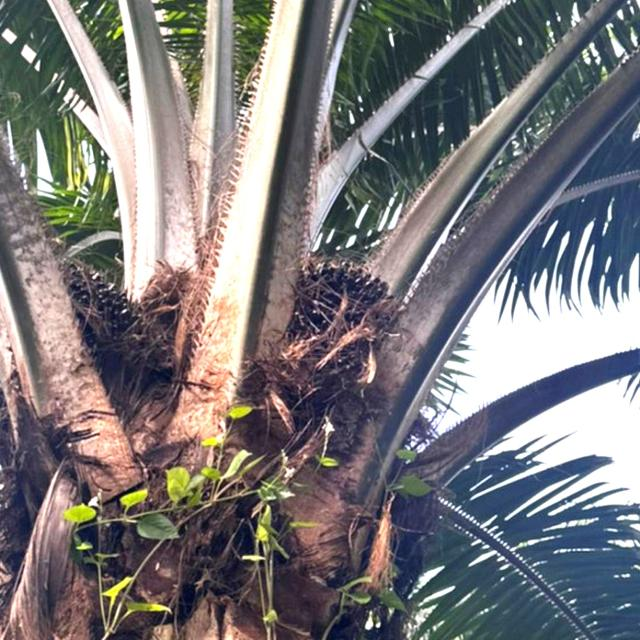almost: (278, 254, 404, 408), (43, 247, 160, 399)
